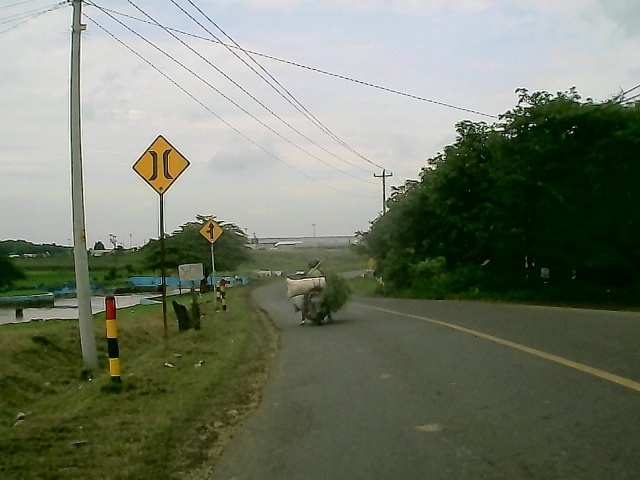Jembatan: (129, 133, 193, 199)
Simpang kiri dengan prioritas: (199, 218, 224, 246)
